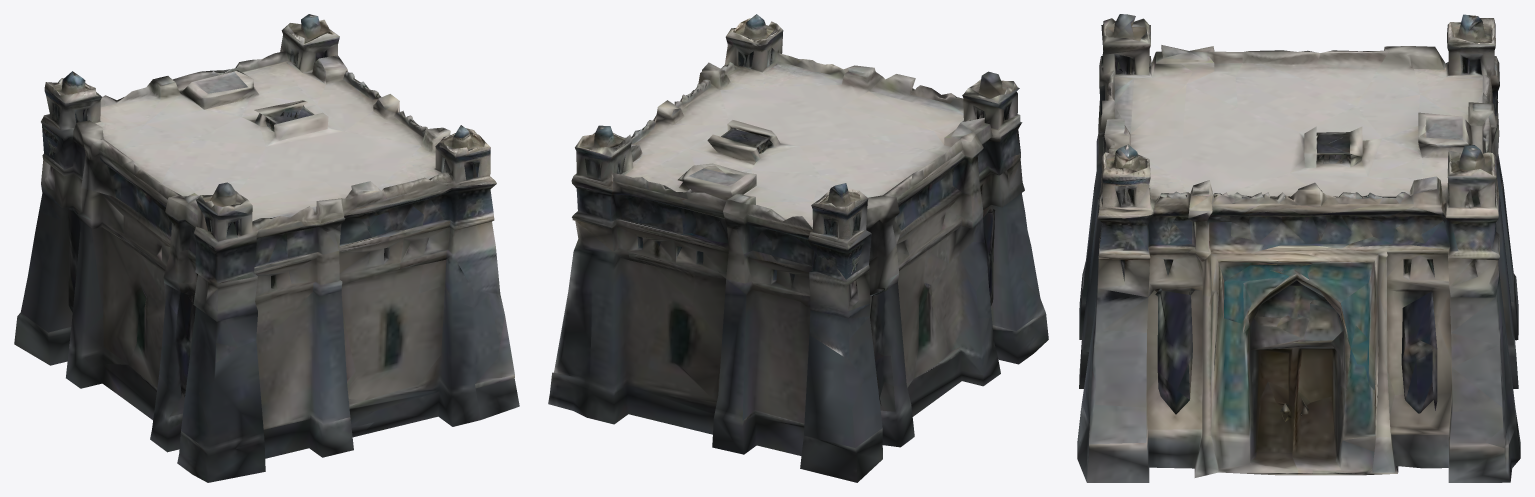
File: treasury_1.glb
3 views of the same model, side by side, from view 1: azimuth 30°, elevation 25°; view 2: azimuth 150°, elevation 25°; view 3: azimuth 270°, elevation 25° (orthographic). The views are drawn at different scales.
Parts seen in each view (by area): view 1: tripo_node_32eac132-6e69-40f8-9feb-b798d6eb7d5a; view 2: tripo_node_32eac132-6e69-40f8-9feb-b798d6eb7d5a; view 3: tripo_node_32eac132-6e69-40f8-9feb-b798d6eb7d5a.
Part boxes in pixels (left/top/right/bottom): tripo_node_32eac132-6e69-40f8-9feb-b798d6eb7d5a: left=14, top=14, right=519, bottom=482; tripo_node_32eac132-6e69-40f8-9feb-b798d6eb7d5a: left=548, top=14, right=1048, bottom=482; tripo_node_32eac132-6e69-40f8-9feb-b798d6eb7d5a: left=1077, top=14, right=1520, bottom=482.
Bounding box in the file's own units: 0.9148 × 0.7767 × 0.9798.
1 material, 1 textured.
